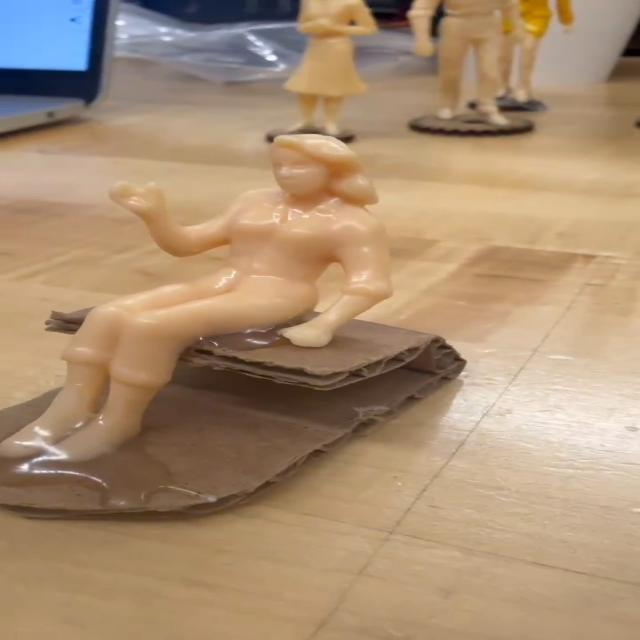Unauthorized: (9, 133, 397, 467)
